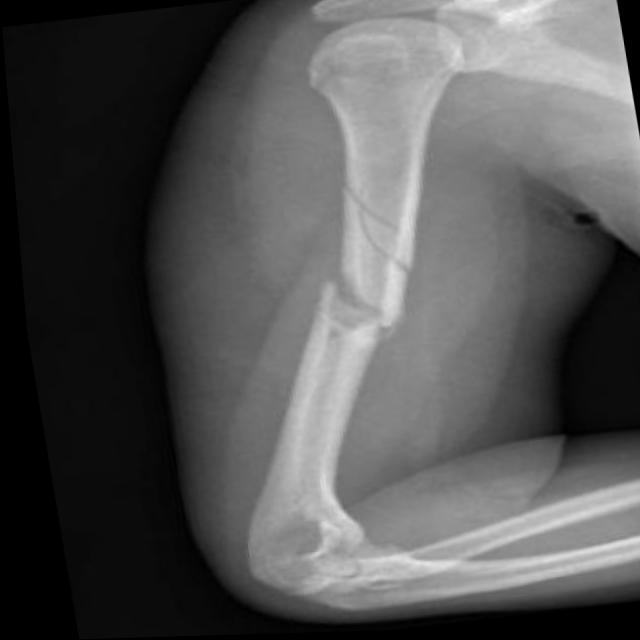fracture: (315, 166, 437, 286), (263, 266, 402, 368)
